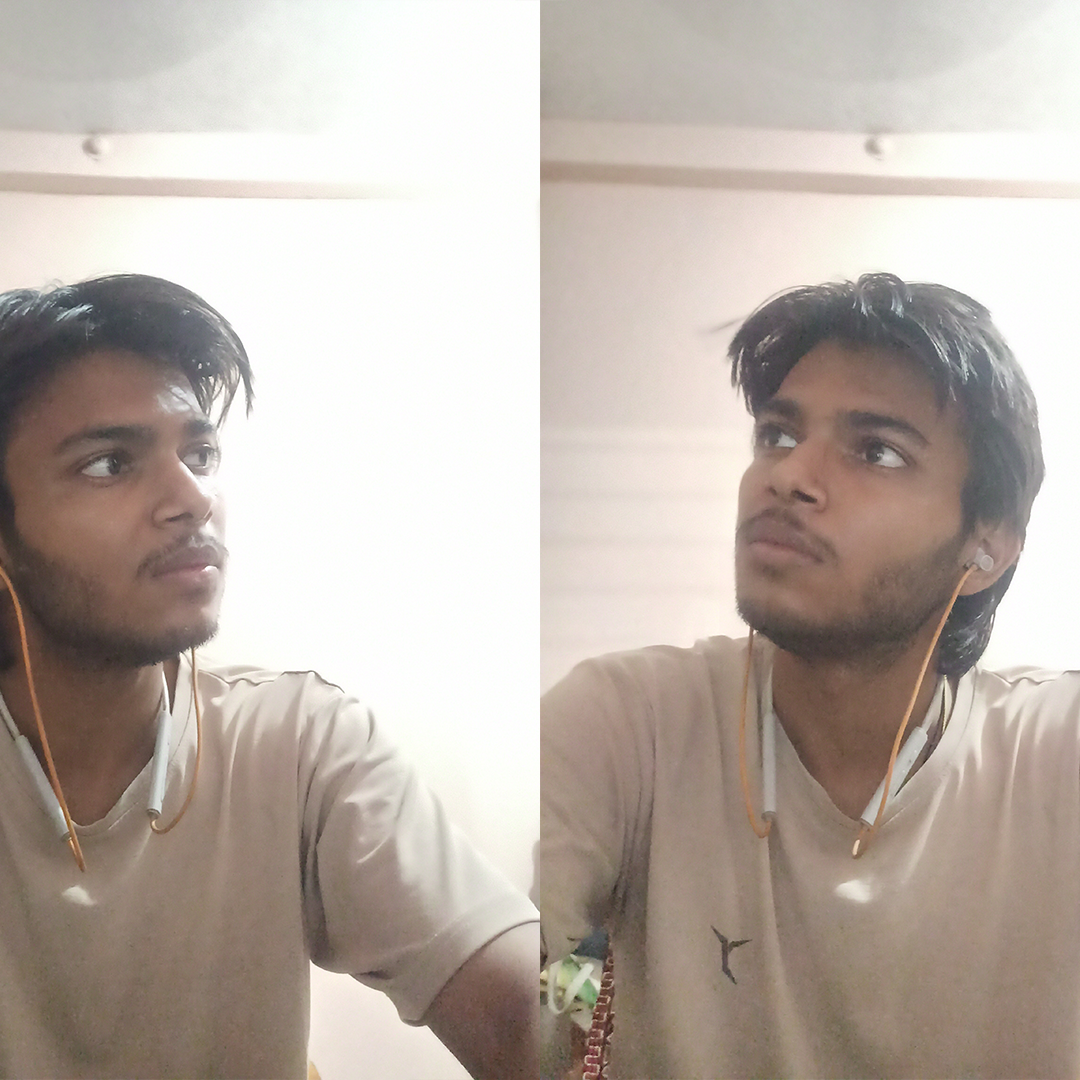distracted: (672, 237, 1051, 701), (2, 223, 345, 722)
